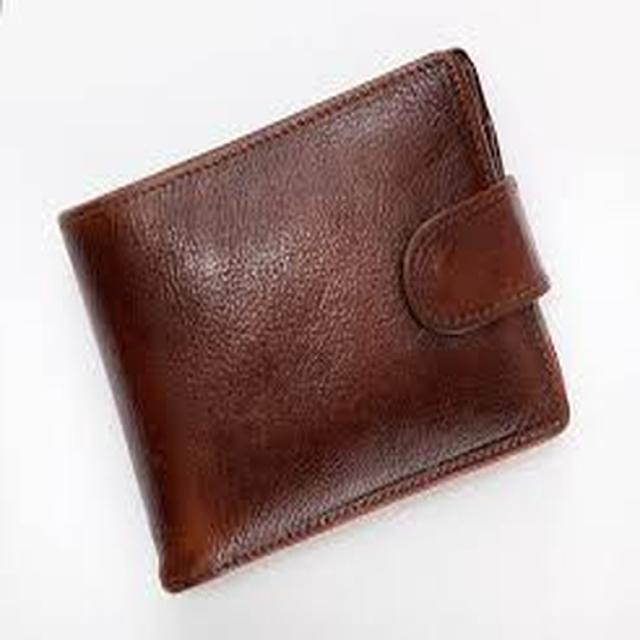wallet: (44, 36, 576, 531)
